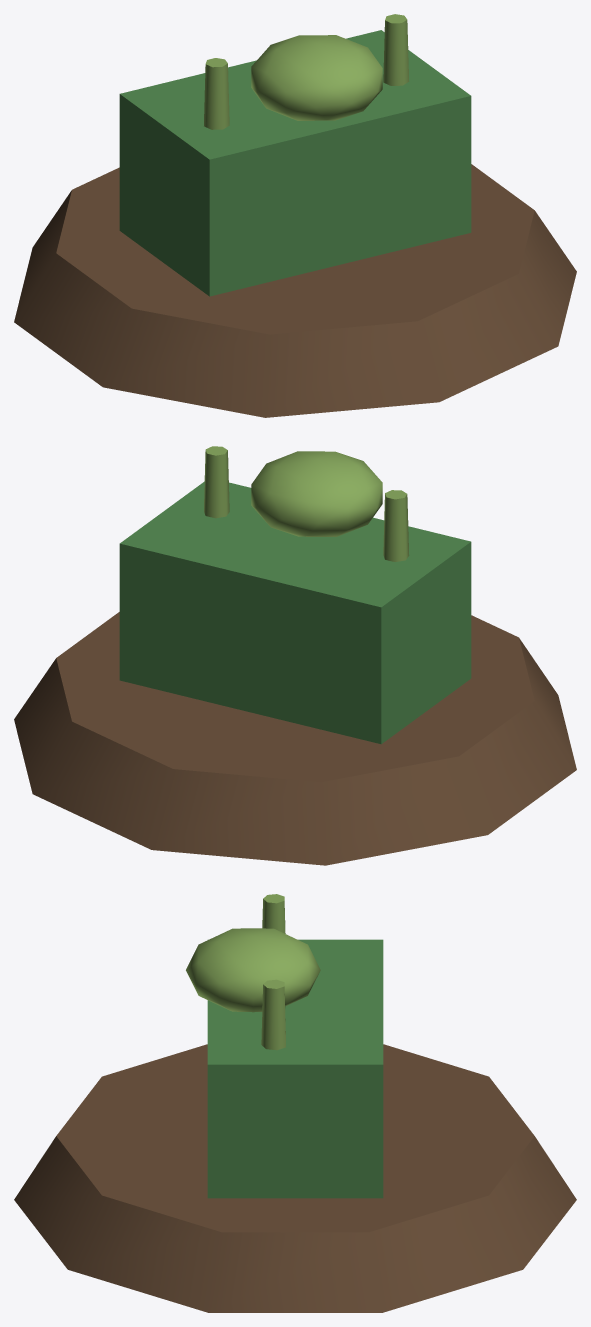
Rendered from stone_brazier.glb.
3 views of the same model, one above another, from view 1: azimuth 30°, elevation 25°; view 2: azimuth 150°, elevation 25°; view 3: azimuth 270°, elevation 25° (orthographic). The views are drawn at different scales.
Parts seen in each view (by area): view 1: base, altar, emblem, candle_-1, candle_1; view 2: base, altar, emblem, candle_1, candle_-1; view 3: base, altar, emblem, candle_1, candle_-1.
Boxes of the visible parts, bbox=[...] form: base: bbox=[14, 164, 576, 417]; altar: bbox=[119, 30, 471, 296]; emblem: bbox=[251, 35, 382, 120]; candle_-1: bbox=[204, 58, 229, 129]; candle_1: bbox=[383, 14, 409, 85]; base: bbox=[14, 612, 576, 865]; altar: bbox=[119, 481, 471, 744]; emblem: bbox=[251, 451, 382, 536]; candle_1: bbox=[204, 446, 229, 518]; candle_-1: bbox=[383, 490, 409, 561]; base: bbox=[14, 1044, 576, 1312]; altar: bbox=[207, 939, 383, 1198]; emblem: bbox=[186, 928, 320, 1012]; candle_1: bbox=[261, 979, 285, 1050]; candle_-1: bbox=[262, 894, 285, 933].
Size of what is drawn, in the model's own units: 3.8 by 2.06 by 4.
